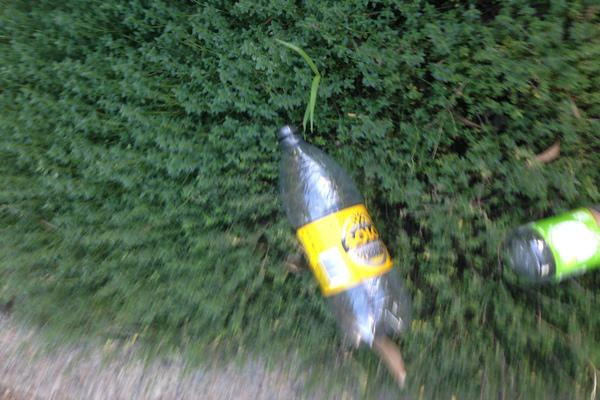Plastic Bottle: (276, 124, 411, 347), (502, 207, 600, 289)
